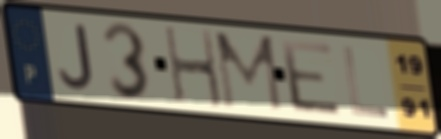3: (101, 20, 153, 103)
E: (277, 37, 346, 119)
H: (161, 25, 225, 111)
J: (56, 22, 96, 93)
L: (339, 44, 392, 121)
M: (212, 30, 286, 114)
